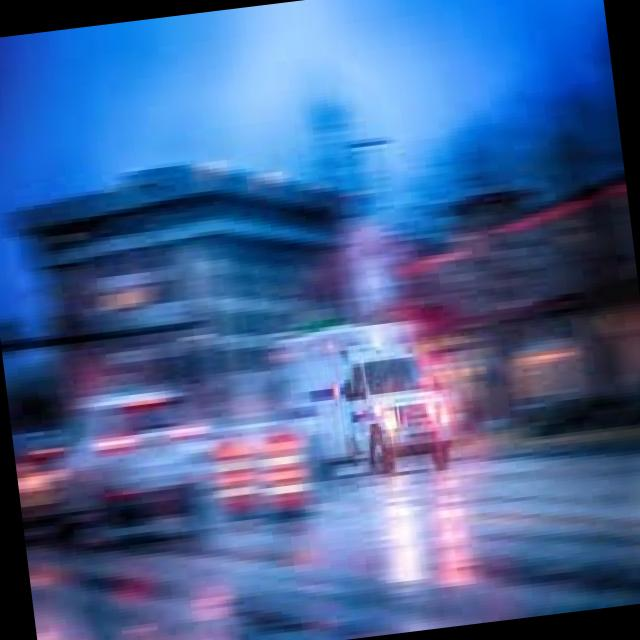ambulance: (334, 293, 472, 483)
